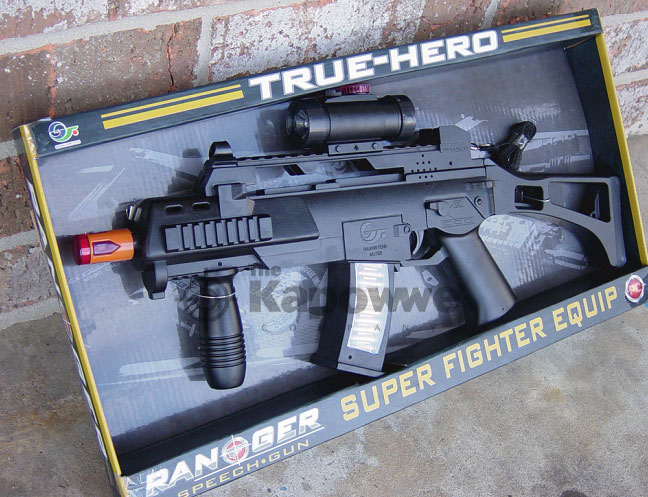rifle: (39, 122, 638, 403)
